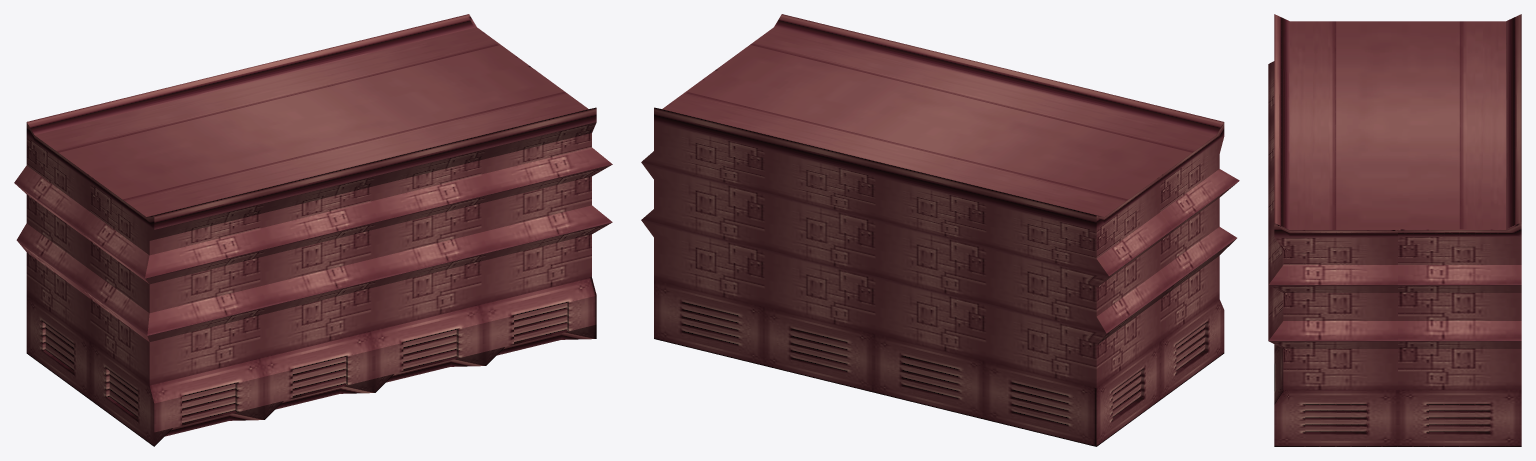
The model's file is metallic_wall03_red.fbx.
3 renders of one model, left to right at view 1: azimuth 30°, elevation 25°; view 2: azimuth 150°, elevation 25°; view 3: azimuth 270°, elevation 25°, orthographic. The views are drawn at different scales.
Parts seen in each view (by area): view 1: Cube; view 2: Cube; view 3: Cube.
Boxes of the visible parts, x1,y1,x2,y2 form: Cube: (14,14,612,446); Cube: (641,14,1239,446); Cube: (1268,14,1521,446).
Size of the model in its own units: 4231 by 2000 by 2048.
Materials: 1 (1 with a texture image).
